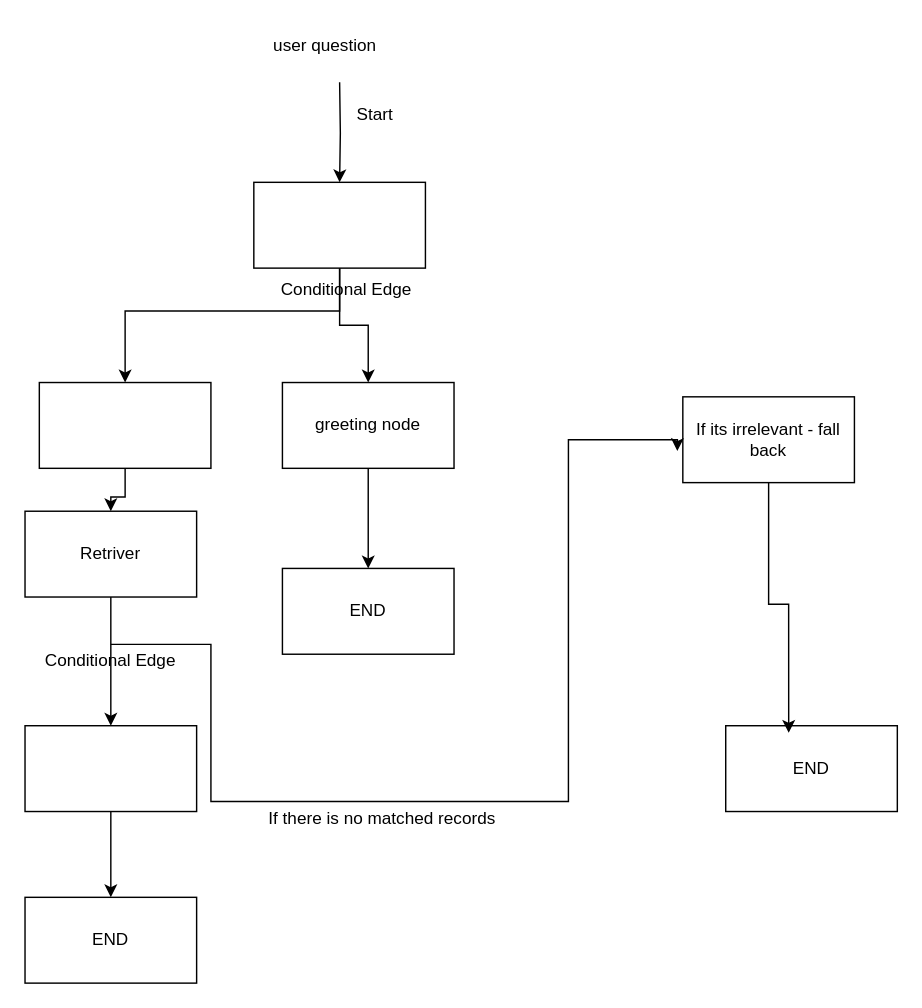
The diagram is 922 pixels wide and 1008 high, and some of its shapes have lost their labels. Each missing label, with the box of its shape:
Answer: (24, 724, 197, 812)
rewrite (RAG): (38, 381, 211, 468)
Router: (252, 181, 425, 268)
